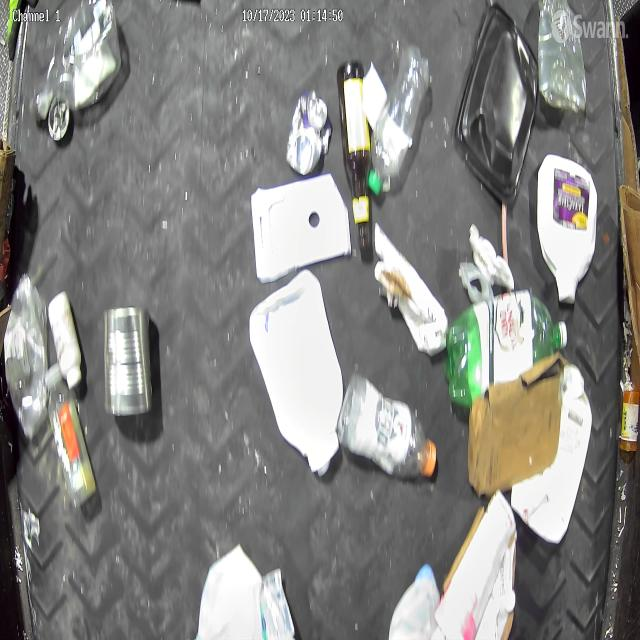can: (104, 304, 156, 423), (285, 89, 331, 175)
milk_jug: (246, 268, 344, 476), (192, 541, 268, 640), (387, 563, 447, 640)
plastic_bottle: (338, 373, 437, 478), (369, 49, 432, 197), (45, 362, 98, 508)
